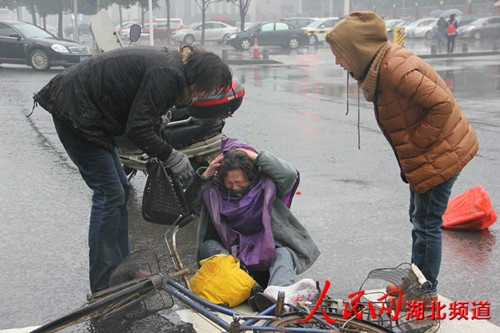falling: (179, 119, 330, 326)
